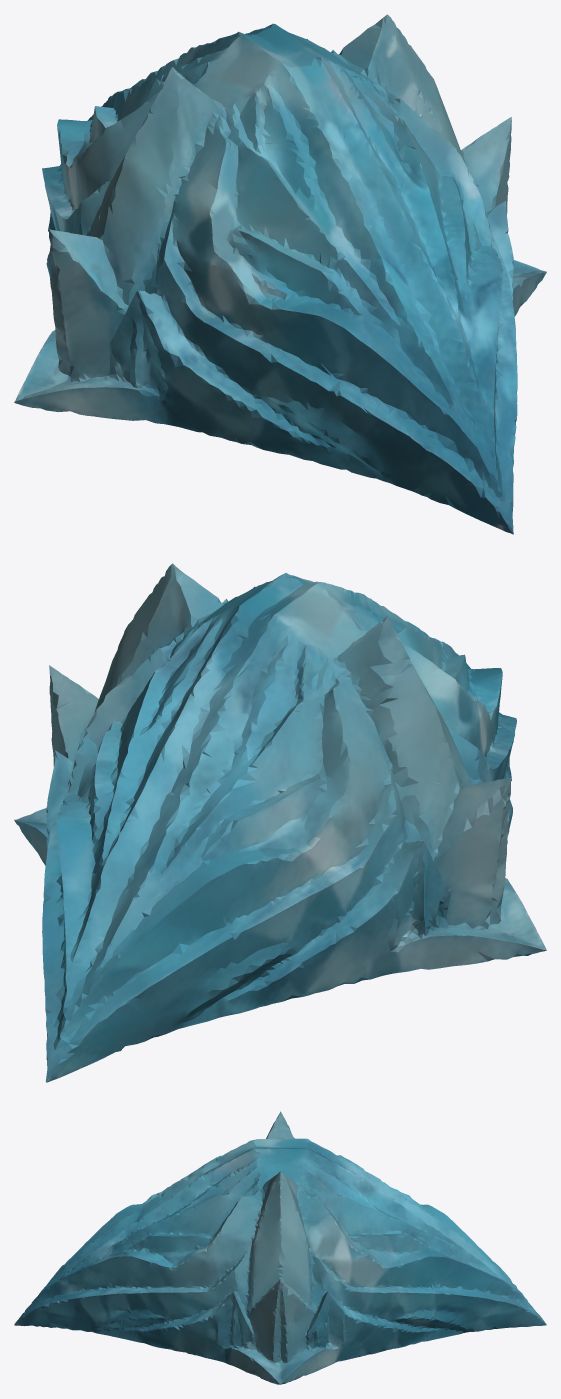
File: nova_tail.glb
3 views of the same model, one above another, from view 1: azimuth 30°, elevation 25°; view 2: azimuth 150°, elevation 25°; view 3: azimuth 270°, elevation 25° (orthographic). The views are drawn at different scales.
Parts seen in each view (by area): view 1: nova_tail; view 2: nova_tail; view 3: nova_tail.
Part boxes in pixels (x1=…): nova_tail: x1=14, y1=14, x2=546, y2=534; nova_tail: x1=14, y1=563, x2=546, y2=1082; nova_tail: x1=14, y1=1111, x2=546, y2=1384.
Size of the model in its own units: 1.25 by 0.7237 by 1.89.
Materials: 1 (1 with a texture image).
